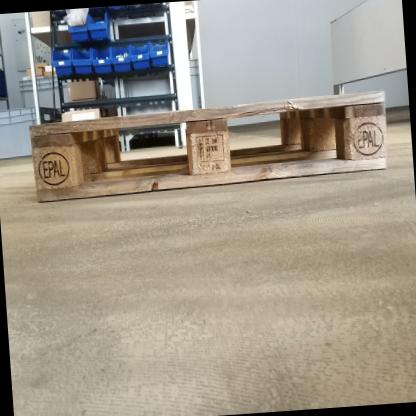BoxFace: (25, 85, 391, 204)
